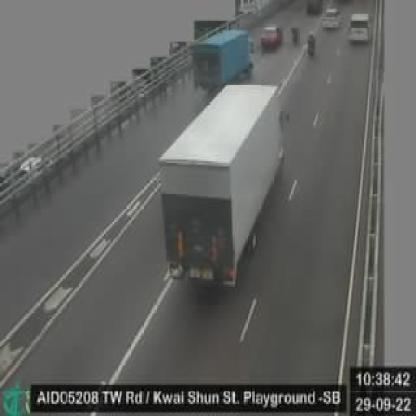Car: (345, 9, 373, 46), (256, 19, 286, 50), (320, 2, 342, 34)
Truck: (152, 80, 291, 294), (181, 22, 257, 88)
